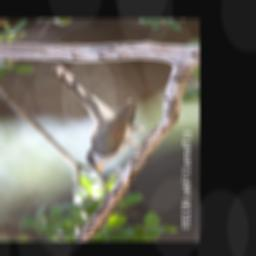Cuckoo: (44, 62, 160, 179)
